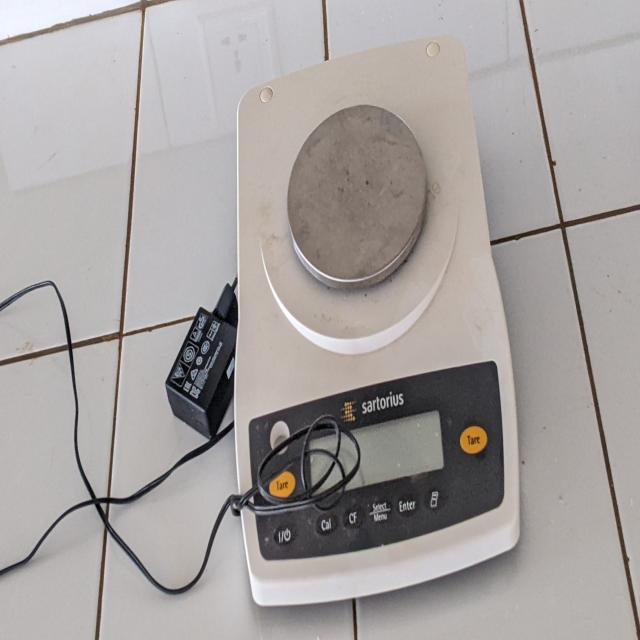Electronic Balance: (220, 49, 522, 610)
